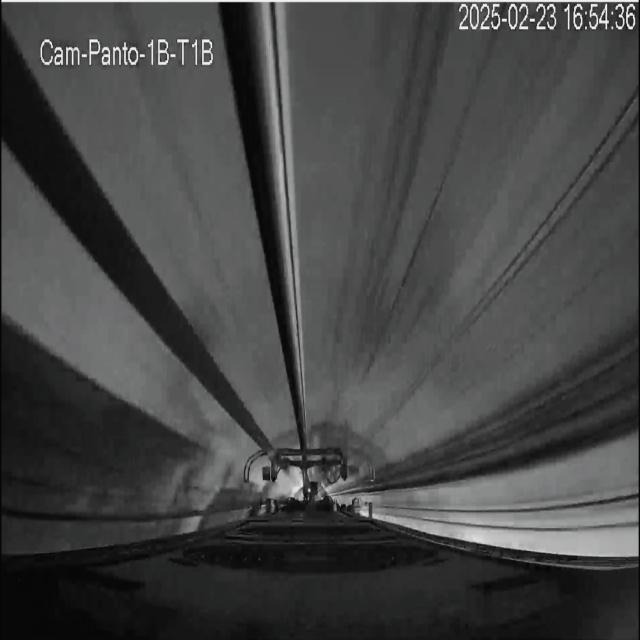Camera Stamp: (35, 29, 221, 70)
Date Stamp: (458, 3, 636, 33)
No - Spark: (252, 444, 361, 511)
